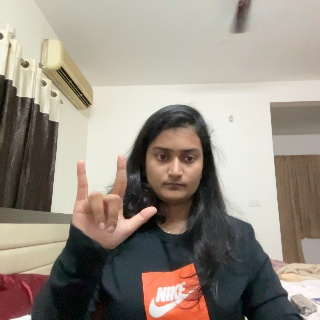I Love You: (72, 157, 161, 270)
